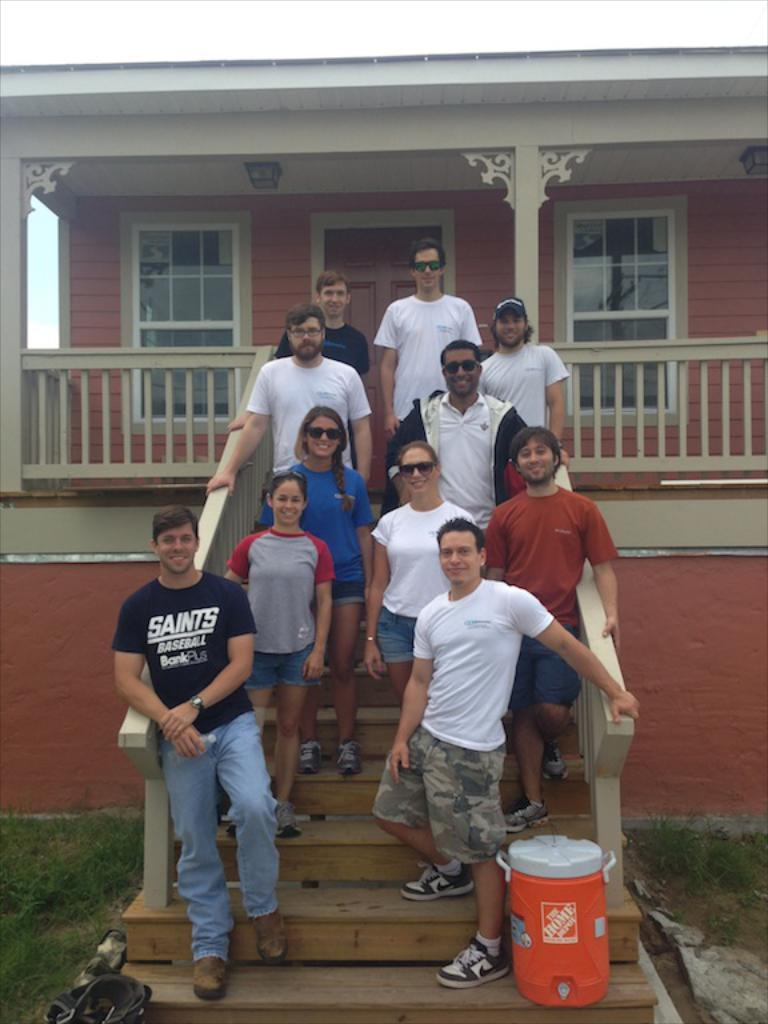Footwear: (400, 863, 481, 907), (437, 943, 519, 980), (253, 908, 284, 964), (507, 799, 553, 835), (191, 960, 225, 1001), (269, 803, 305, 840), (543, 743, 571, 783), (341, 743, 363, 777), (300, 741, 320, 777)
